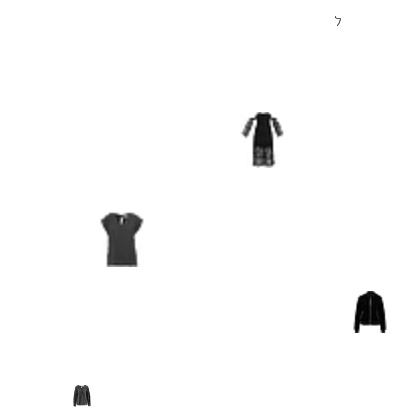7: (331, 13, 345, 27)
Coat: (349, 291, 391, 333)
Dress: (233, 112, 289, 168)
Shirt: (93, 211, 149, 267), (71, 385, 93, 407)
